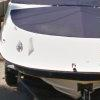Boat: (3, 2, 98, 98)
